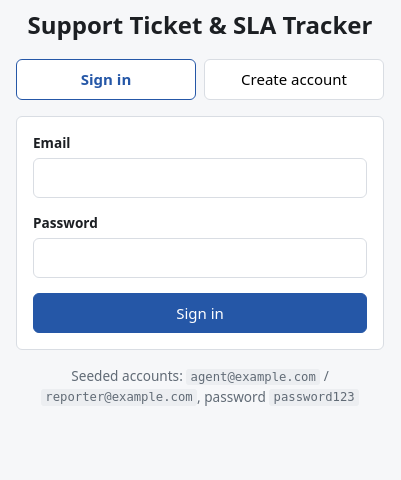
Test: sign in › shows a banner when the server rejects the credentials
In the field labelled "Email": (200, 178) [33,158,367,198], type "agent@example.com"
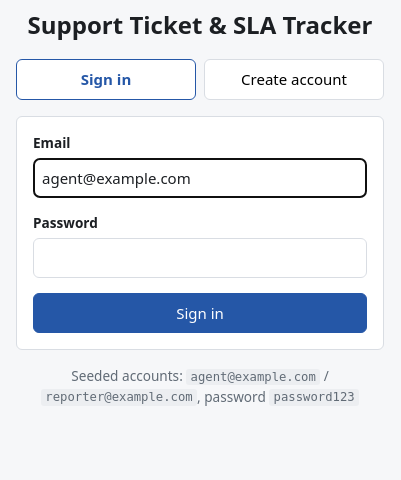
In the password field labelled "Password": (200, 258) [33,238,367,278], type "wrong"
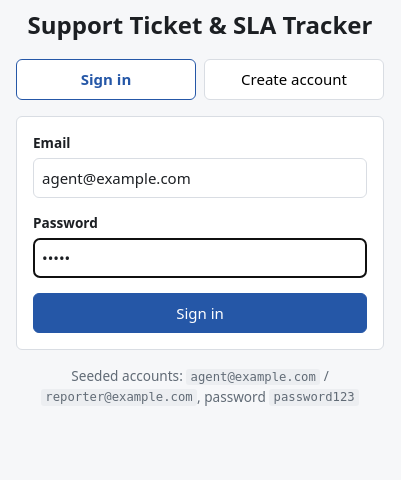
Click the button "Sign in": (200, 313) [33,293,367,333]
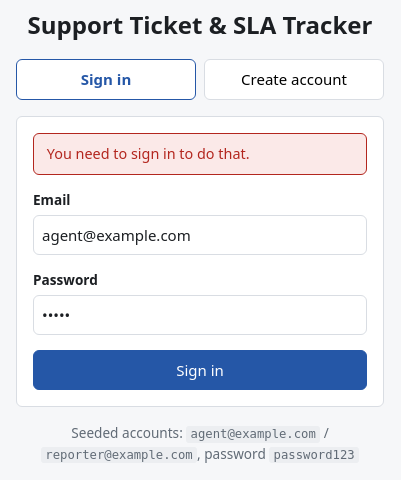
Result: the message reads "You need to sign in to do that." at [47,144,250,163]
